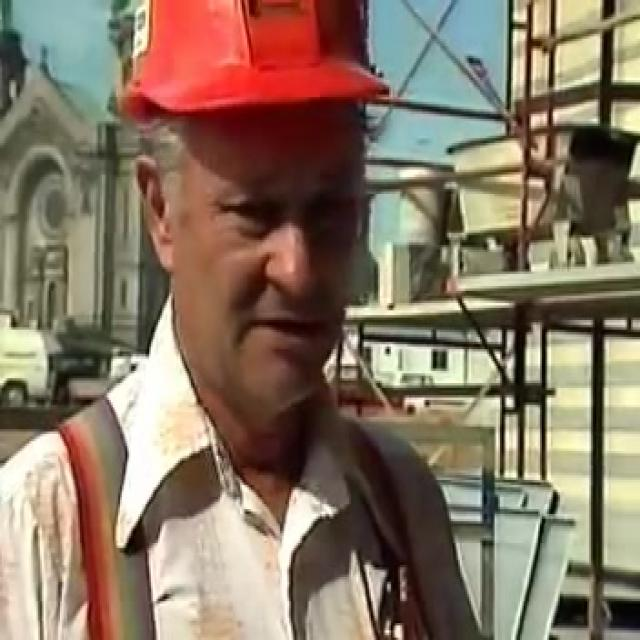Reflective-Jacket: (6, 366, 518, 638)
Safety-Helmet: (104, 0, 420, 148)
